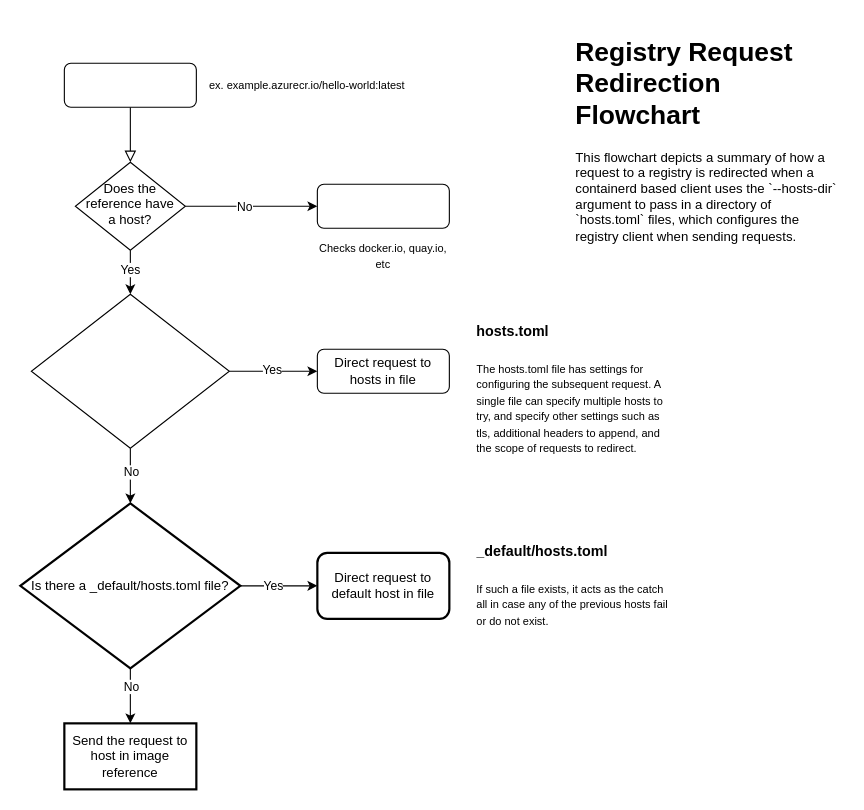
Some shapes in this 864 by 810 pixel diagram are drawn without their labels. The box of each missing label's shape, as (x1, y1, x2, y2) in pixels:
Check locally tagged images/public sources: (316, 183, 449, 228)
Does the host have a hosts.toml?: (30, 293, 229, 448)
Resolving image reference: (63, 62, 196, 107)
